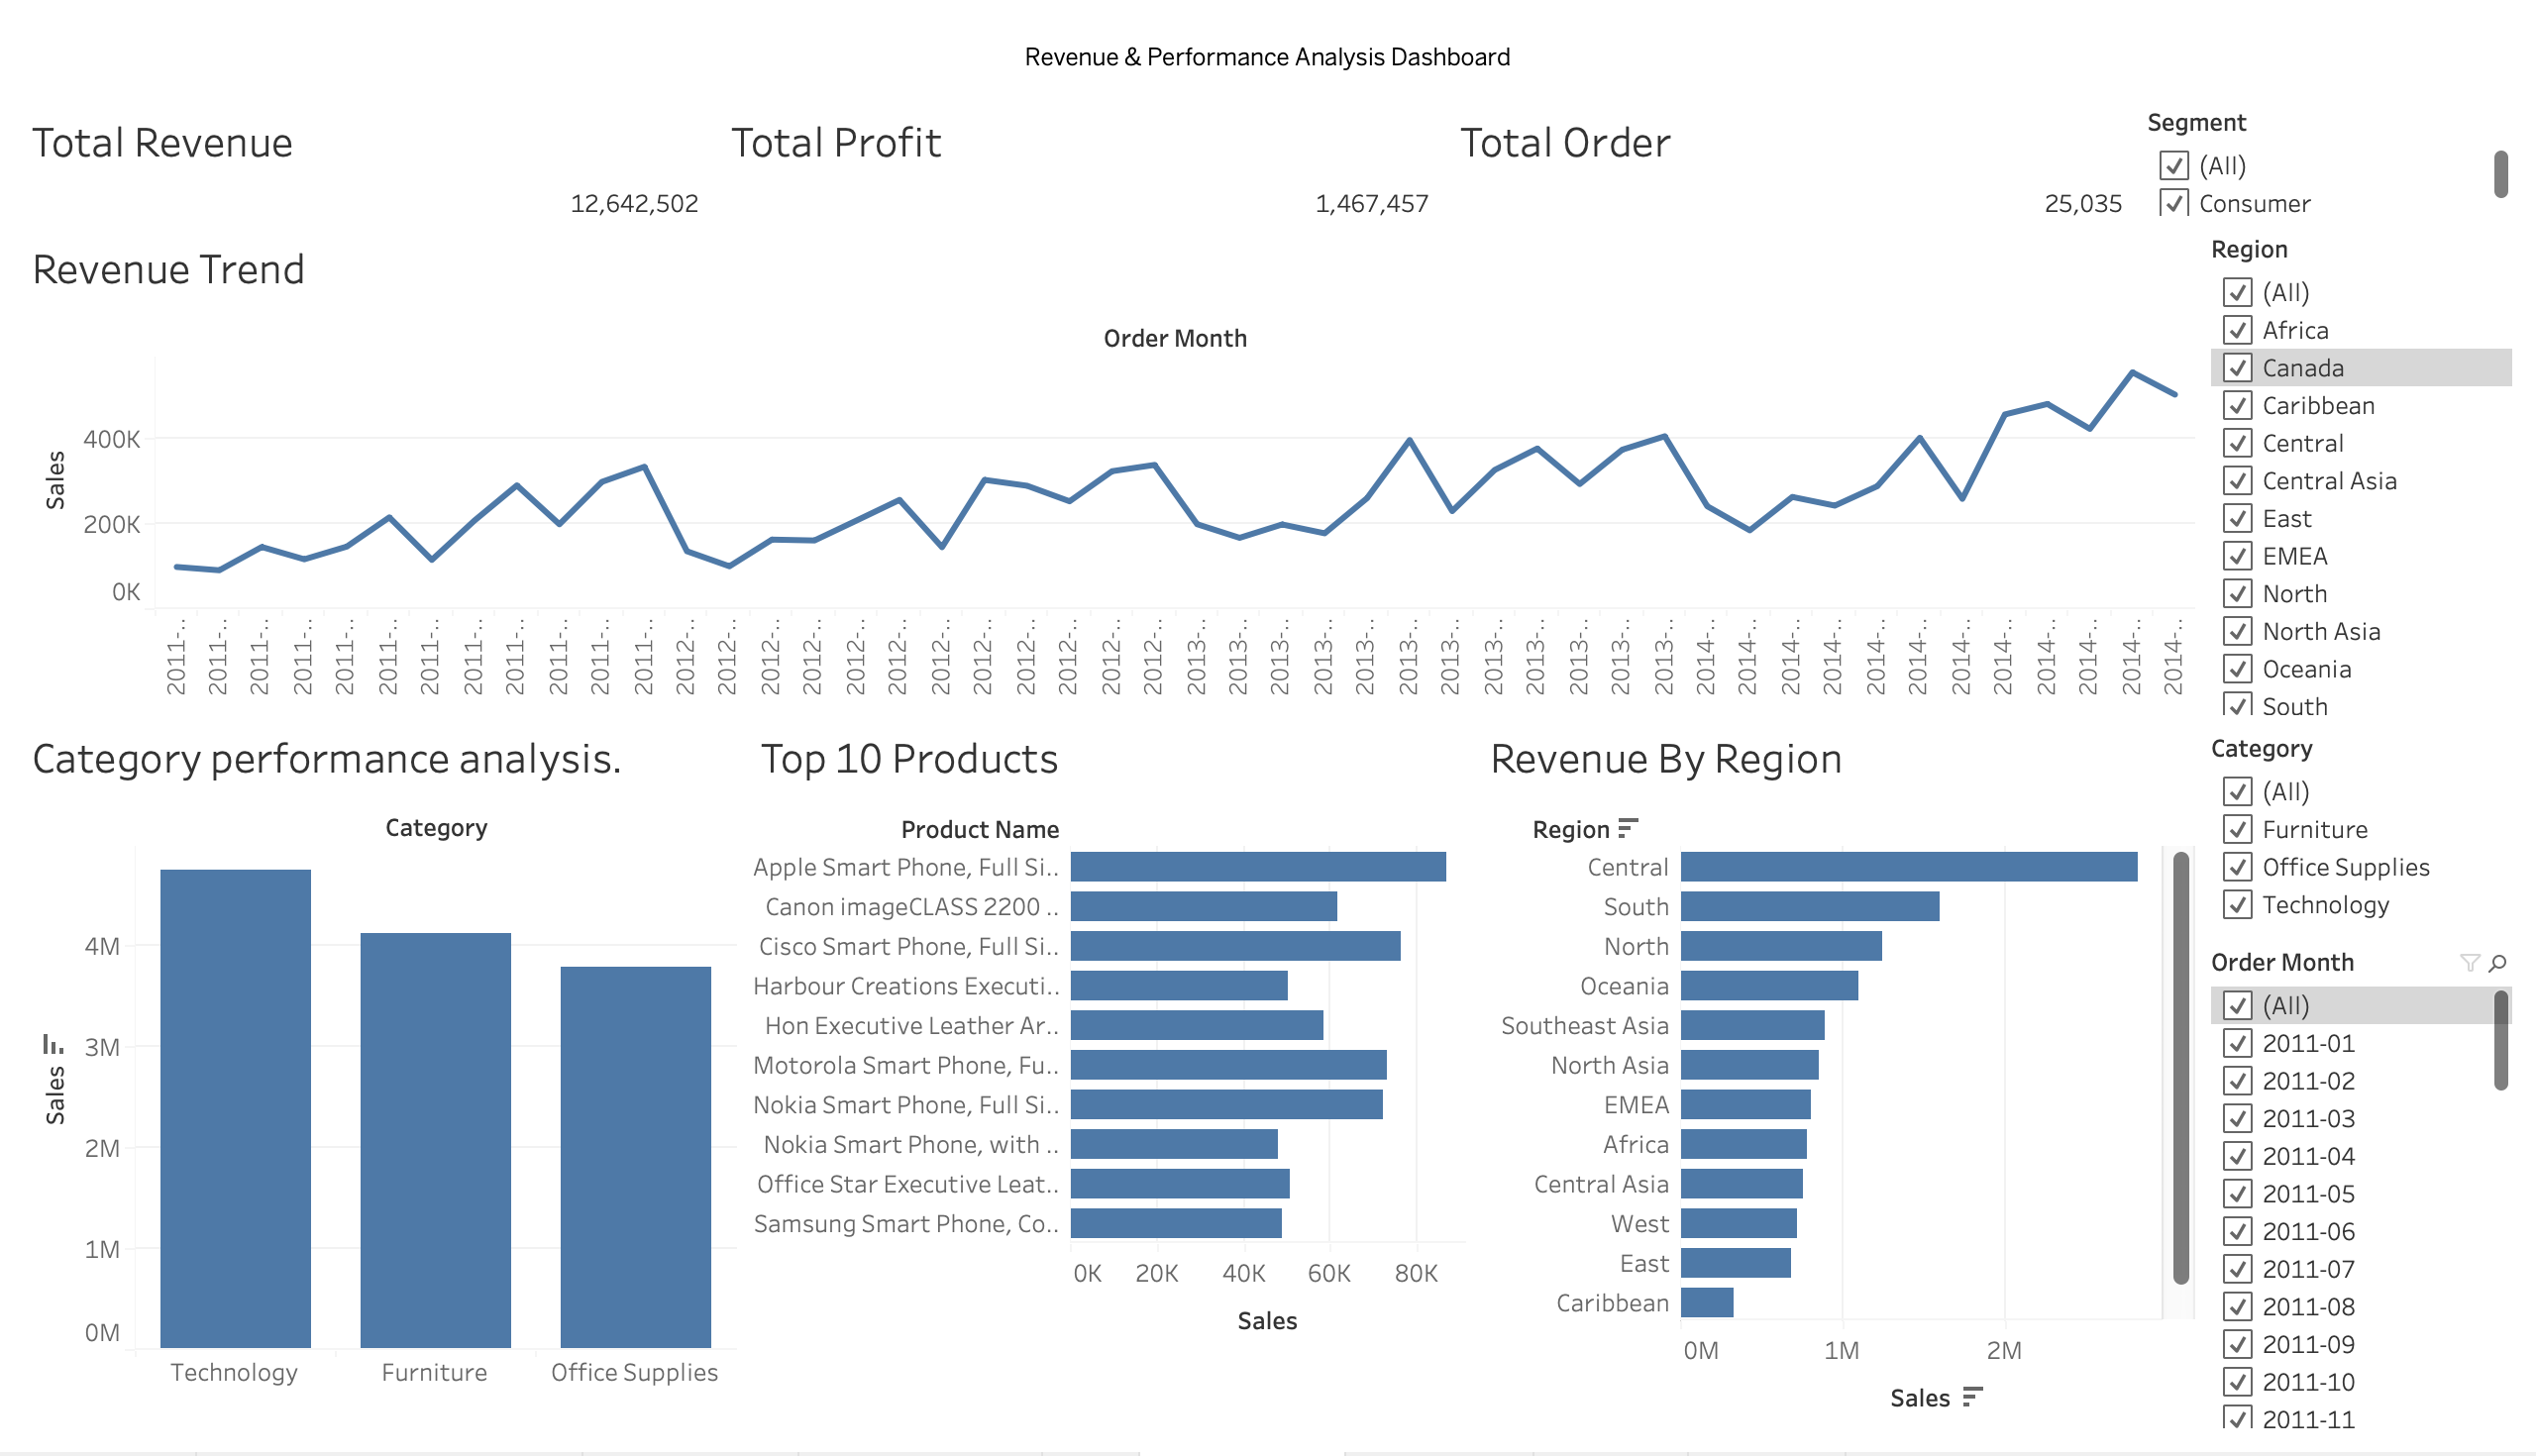

Layout of this report page (visuals, bound fields, positions):
{"tool":"tableau","page":{"name":"Dashboard 1","canvas":[1000,1000],"units":"permille","ordinal":0},"visuals":[{"type":"text","box":[7.7,15.5,984.6,55.6]},{"type":"worksheet","title":"Total Revenue","mark":"Automatic","box":[7.7,71.1,274.8,86.3]},{"type":"worksheet","title":"Total Profit","mark":"Automatic","box":[282.5,71.1,287.1,86.3]},{"type":"worksheet","title":"Total Order","mark":"Automatic","box":[569.6,71.1,273,86.3]},{"type":"filter","title":"Category performance analysis.","param":"[federated.17zi26j08yaviq1ain1pg1jd7dpz].[none:Segment:nk]","box":[842.6,71.1,149.7,86.3]},{"type":"worksheet","title":"Revenue Trend","mark":"Line","rows":["Sales"],"cols":["Order_Month"],"box":[7.7,157.4,830.8,333.3]},{"type":"filter","title":"Category performance analysis.","param":"[federated.17zi26j08yaviq1ain1pg1jd7dpz].[none:Region:nk]","box":[838.5,157.4,153.8,308.7]},{"type":"filter","title":"Category performance analysis.","param":"[federated.17zi26j08yaviq1ain1pg1jd7dpz].[none:Category:nk]","box":[838.5,466.1,153.8,209.7]},{"type":"worksheet","title":"Category performance analysis.","mark":"Automatic","rows":["Sales"],"cols":["Category"],"box":[7.7,490.7,276.8,493.8]},{"type":"worksheet","title":"Top 10 Products","mark":"Automatic","rows":["Product Name"],"cols":["Sales"],"box":[284.5,490.7,277,493.8]},{"type":"worksheet","title":"Revenue By Region","mark":"Automatic","rows":["Region"],"cols":["Sales"],"box":[561.5,490.7,277,493.8]},{"type":"filter","title":"Category performance analysis.","param":"[federated.17zi26j08yaviq1ain1pg1jd7dpz].[none:Order_Month:nk]","box":[838.5,675.8,153.8,308.7]}]}

Visuals, with their boxes on the dashboard's canvas, which has no fixed pixel size, in thousandths of its width and height (x1, y1, x2, y2). These are canvas units, not pixel positions in the 2536x1456 screenshot, which may show the page scaled, cropped or inside an application window:
text: 8/16/992/71
"Total Revenue" worksheet: 8/71/282/157
"Total Profit" worksheet: 282/71/570/157
"Total Order" worksheet: 570/71/843/157
"Category performance analysis." filter: 843/71/992/157
"Revenue Trend" worksheet (Line marks): 8/157/838/491
"Category performance analysis." filter: 838/157/992/466
"Category performance analysis." filter: 838/466/992/676
"Category performance analysis." worksheet: 8/491/284/984
"Top 10 Products" worksheet: 284/491/562/984
"Revenue By Region" worksheet: 562/491/838/984
"Category performance analysis." filter: 838/676/992/984
